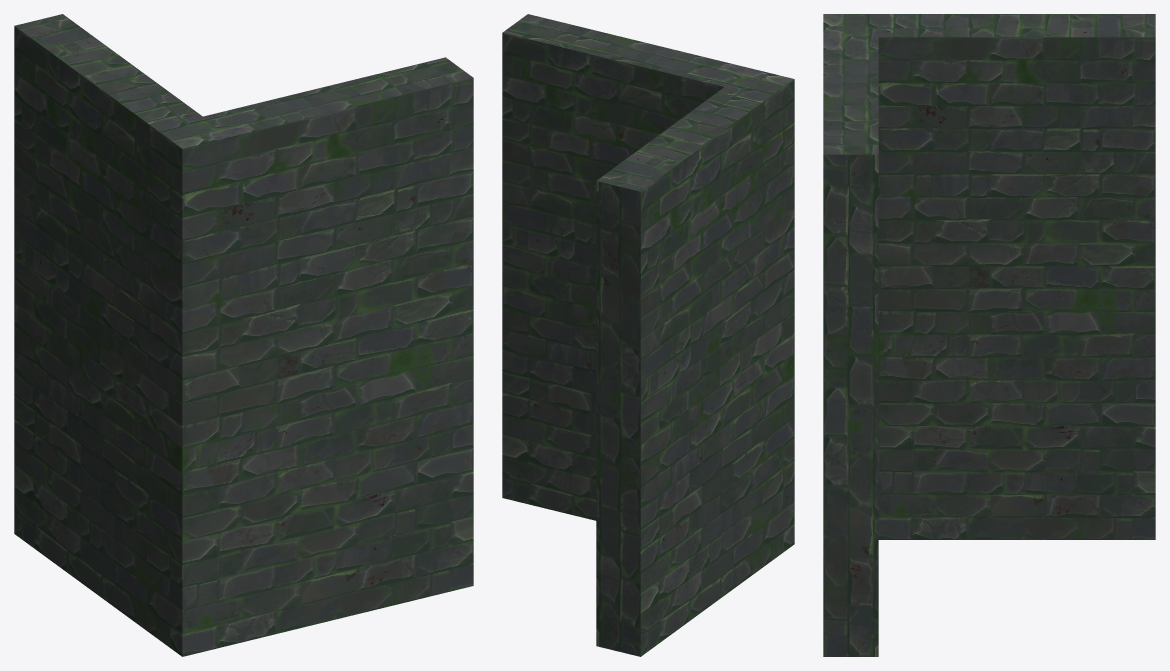
The model's file is outerCorner.fbx.
3 renders of one model, left to right at view 1: azimuth 30°, elevation 25°; view 2: azimuth 150°, elevation 25°; view 3: azimuth 270°, elevation 25°, orthographic. The views are drawn at different scales.
Visible parts, largest first — view 1: outerCorner; view 2: outerCorner; view 3: outerCorner.
Part boxes in pixels (x1,y1,x2,y2): outerCorner: (14, 14, 473, 656); outerCorner: (502, 14, 794, 656); outerCorner: (823, 14, 1155, 656).
Size of the model in its own units: 240 by 400 by 240.
1 material, 1 textured.
